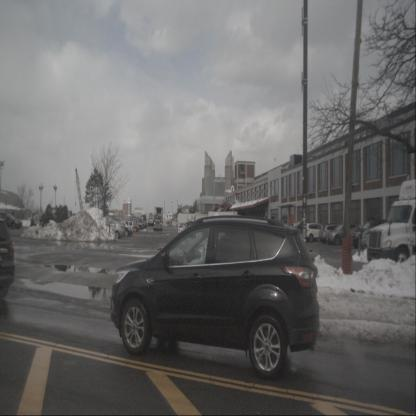vehicle-car: (110, 216, 320, 381), (350, 219, 392, 249), (0, 218, 15, 298), (327, 224, 360, 245), (361, 228, 387, 251), (94, 221, 125, 240), (319, 224, 346, 244), (302, 223, 328, 242), (107, 222, 132, 237), (0, 214, 22, 230), (31, 213, 49, 229), (117, 220, 134, 235), (294, 220, 312, 234), (177, 222, 194, 236), (131, 218, 148, 230), (123, 221, 140, 232), (148, 217, 154, 226)
vehicle-truck: (366, 179, 416, 273), (124, 217, 145, 231), (154, 214, 162, 231)
